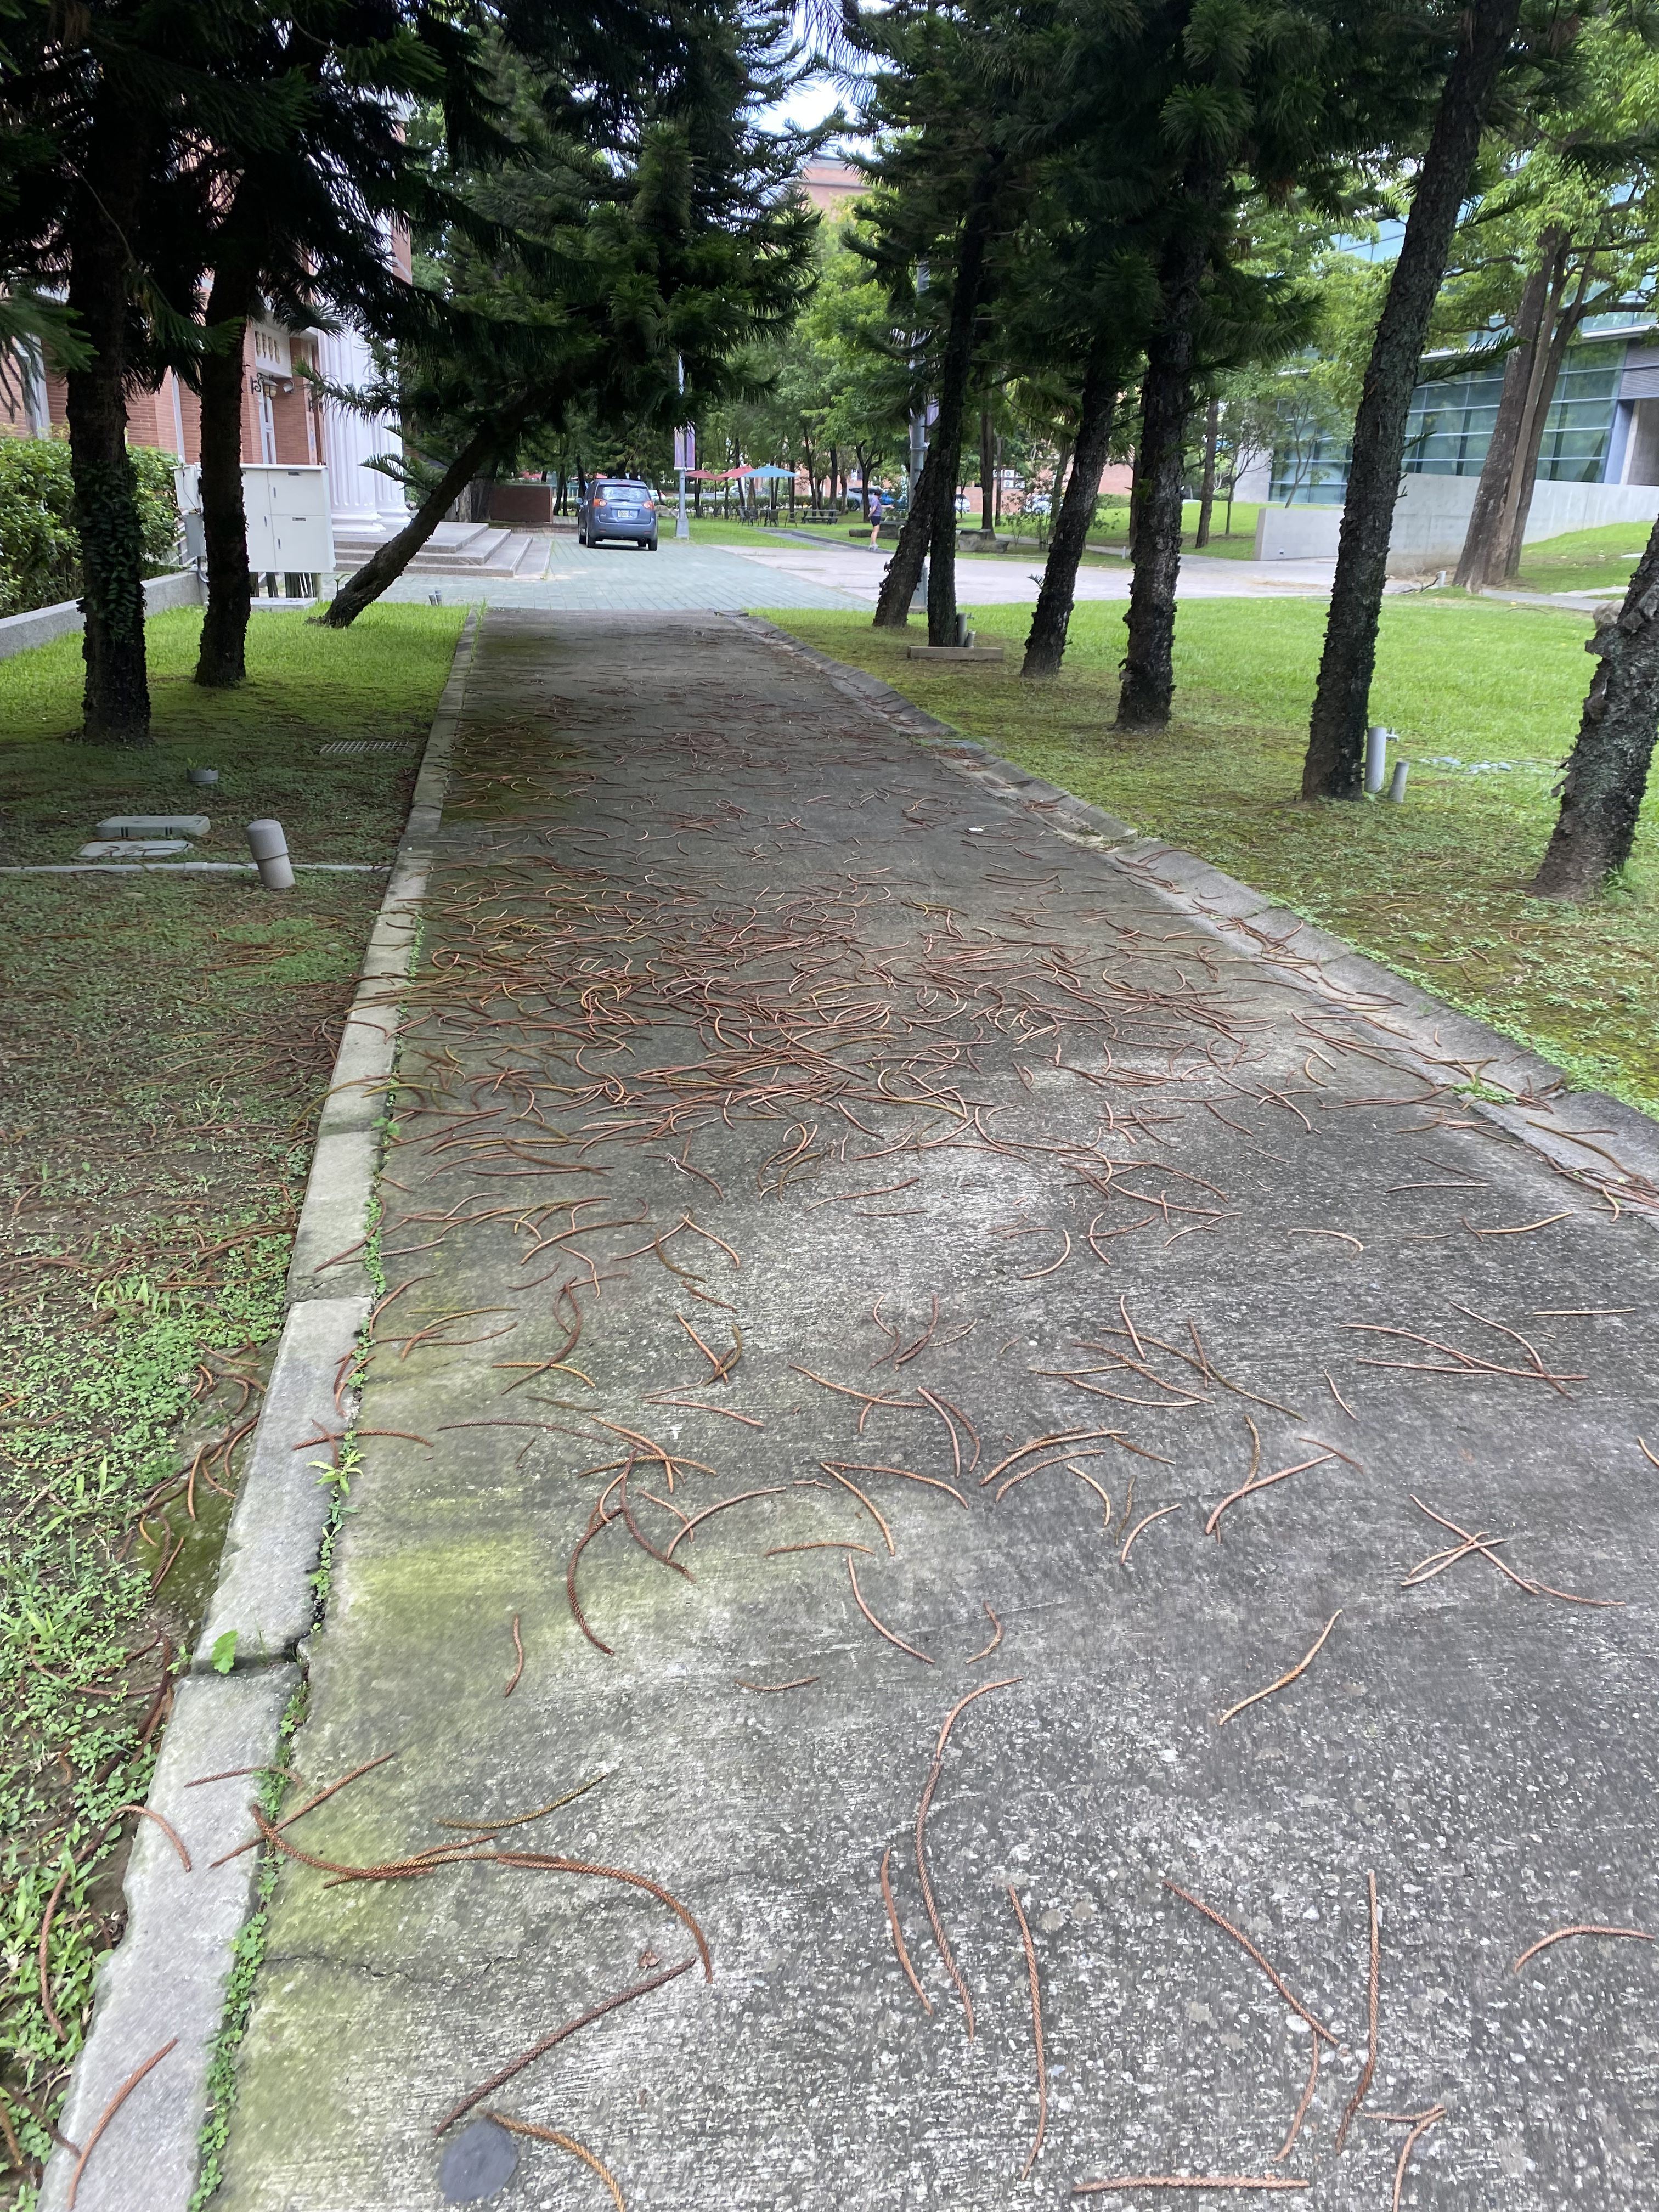sidewalk: (56, 543, 1659, 2212)
